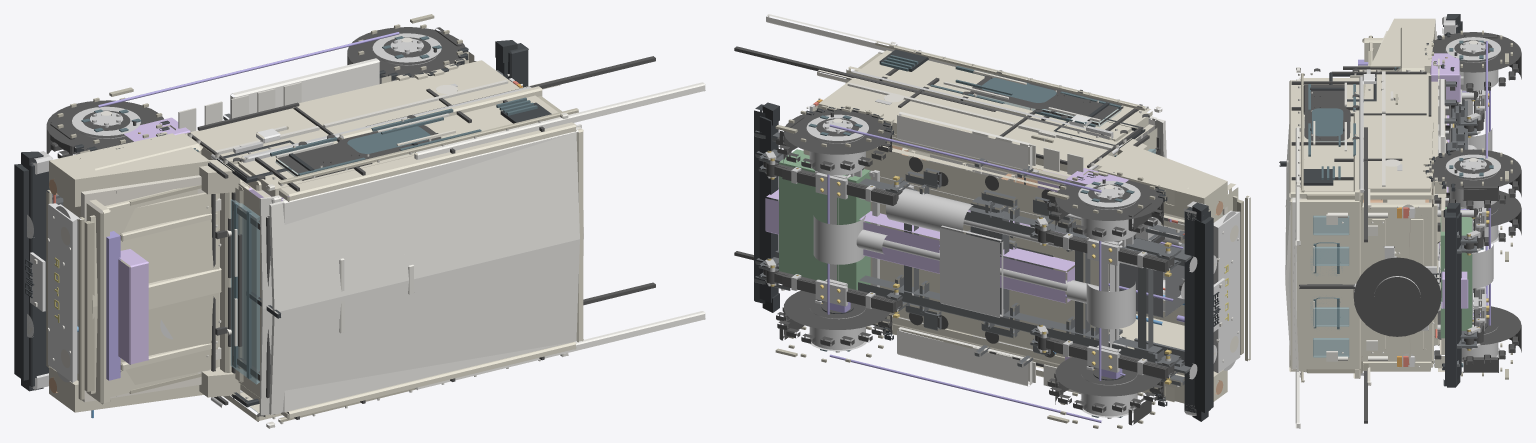
Rendered from j40_full_vehicle_scaffold_rev_c.gltf.
3 renders of one model, left to right at view 1: azimuth 30°, elevation 25°; view 2: azimuth 150°, elevation 25°; view 3: azimuth 270°, elevation 25°, orthographic. The views are drawn at different scales.
Parts seen in each view (by area): view 1: white_hardtop_crowned_roof_skin, hood_crowned_closed_skin, white_hardtop_roof, right_rear_quarter_waist_tapered_surface, right_front_fender_sloped_outer_skin, front_grille_inset_rounded_surround_surface, windshield_raked_glass_surface, right_hardtop_side_panel, fan_radiator_clearance_envelope, right_door_outer_skin_tapered_surface, front_bumper_swept_main_face, right_hardtop_side_tapered_upper_skin (+39 smaller); view 2: floor_pan, rear_underfloor_fuel_tank, skid_plate_transfer_case, right_rear_quarter_waist_tapered_surface, front_bumper_swept_main_face, right_side_step_board, left_frame_rail, left_side_step_board, front_grille_inset_rounded_surround_surface, right_front_fender_sloped_outer_skin, right_hardtop_side_tapered_upper_skin, rear_prop_shaft_clearance_tunnel (+57 smaller); view 3: rear_hardtop_panel, rear_spare_tire, right_rear_quarter_waist_tapered_surface, tailgate_panel, right_hardtop_side_tapered_upper_skin, right_door_outer_skin_tapered_surface, rear_bumper, rear_right_tire_tire, right_front_fender_sloped_outer_skin, front_right_tire_tire, rear_underfloor_fuel_tank, right_hardtop_side_panel (+51 smaller).
Boxes of the visible parts, bbox=[...] form: white_hardtop_crowned_roof_skin: bbox=[269, 132, 579, 414]; hood_crowned_closed_skin: bbox=[89, 192, 219, 393]; white_hardtop_roof: bbox=[281, 126, 583, 412]; right_rear_quarter_waist_tapered_surface: bbox=[293, 60, 519, 133]; right_front_fender_sloped_outer_skin: bbox=[49, 133, 210, 206]; front_grille_inset_rounded_surround_surface: bbox=[48, 203, 77, 382]; windshield_raked_glass_surface: bbox=[230, 199, 259, 384]; right_hardtop_side_panel: bbox=[279, 97, 576, 201]; fan_radiator_clearance_envelope: bbox=[118, 249, 148, 364]; right_door_outer_skin_tapered_surface: bbox=[185, 108, 328, 164]; front_bumper_swept_main_face: bbox=[14, 164, 28, 380]; right_hardtop_side_tapered_upper_skin: bbox=[238, 95, 558, 197]; floor_pan: bbox=[803, 146, 1109, 357]; rear_underfloor_fuel_tank: bbox=[779, 149, 870, 290]; skid_plate_transfer_case: bbox=[940, 225, 1003, 317]; right_rear_quarter_waist_tapered_surface: bbox=[818, 78, 1023, 138]; front_bumper_swept_main_face: bbox=[1194, 216, 1213, 412]; right_side_step_board: bbox=[897, 111, 1032, 170]; left_frame_rail: bbox=[858, 275, 1163, 362]; left_side_step_board: bbox=[897, 327, 1032, 386]; front_grille_inset_rounded_surround_surface: bbox=[1213, 211, 1240, 373]; right_front_fender_sloped_outer_skin: bbox=[1097, 145, 1227, 217]; right_hardtop_side_tapered_upper_skin: bbox=[858, 51, 1148, 141]; rear_prop_shaft_clearance_tunnel: bbox=[765, 188, 939, 273]; rear_hardtop_panel: bbox=[1289, 198, 1360, 369]; rear_spare_tire: bbox=[1353, 257, 1441, 336]; right_rear_quarter_waist_tapered_surface: bbox=[1363, 114, 1433, 192]; tailgate_panel: bbox=[1361, 202, 1433, 361]; right_hardtop_side_tapered_upper_skin: bbox=[1303, 78, 1363, 199]; right_door_outer_skin_tapered_surface: bbox=[1363, 73, 1430, 114]; rear_bumper: bbox=[1443, 209, 1456, 386]; rear_right_tire_tire: bbox=[1429, 149, 1521, 196]; right_front_fender_sloped_outer_skin: bbox=[1370, 18, 1435, 73]; front_right_tire_tire: bbox=[1432, 32, 1521, 79]; rear_underfloor_fuel_tank: bbox=[1440, 207, 1472, 338]; right_hardtop_side_panel: bbox=[1289, 80, 1354, 197].
Size of the model in its own units: 4.47 by 1.96 by 1.99.
